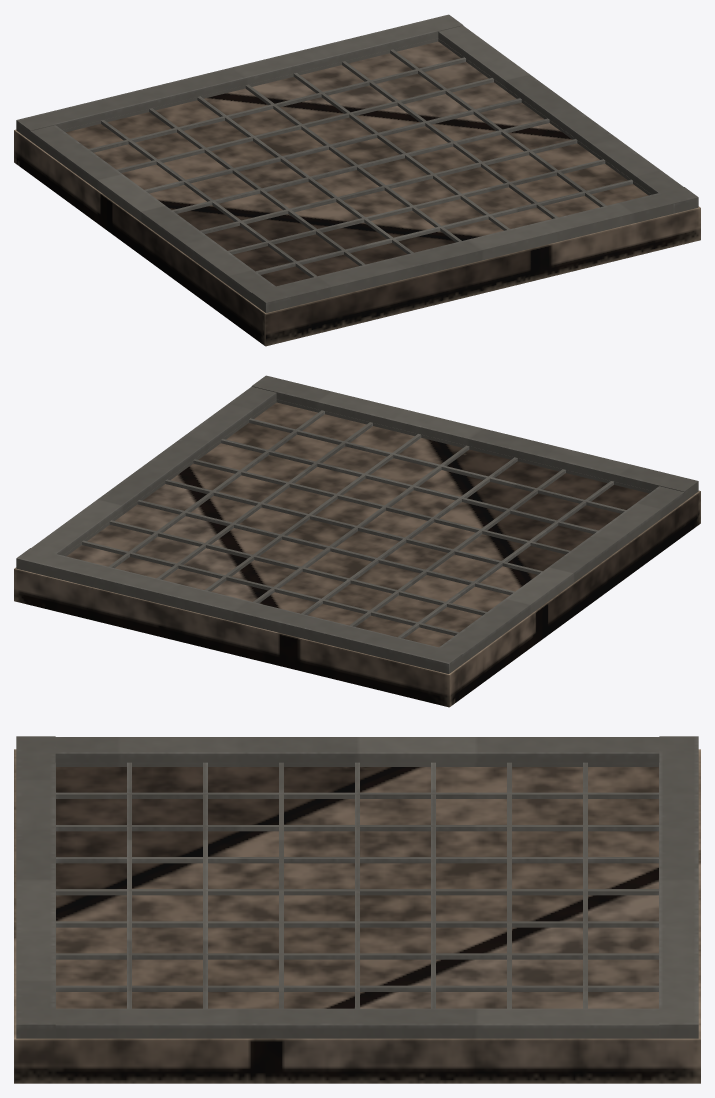
The model's file is othello_board_01.glb.
3 renders of one model, top to bottom at view 1: azimuth 30°, elevation 25°; view 2: azimuth 150°, elevation 25°; view 3: azimuth 270°, elevation 25°, orthographic. The views are drawn at different scales.
Parts seen in each view (by area): view 1: board-convcol; view 2: board-convcol; view 3: board-convcol.
Part boxes in pixels (x1=…): board-convcol: x1=14, y1=14, x2=700, y2=346; board-convcol: x1=14, y1=375, x2=700, y2=707; board-convcol: x1=14, y1=736, x2=700, y2=1083.
Size of the model in its own units: 0.4617 by 0.0432 by 0.4617.
Materials: 1 (1 with a texture image).
